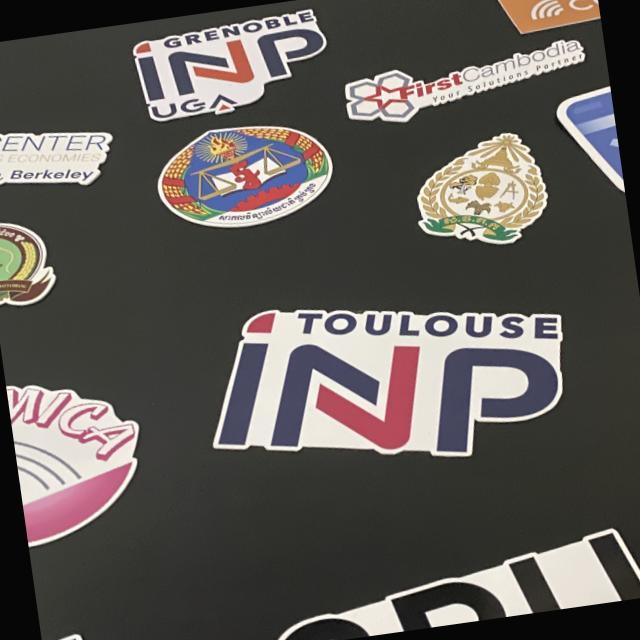Yolov11_80vkh: (211, 176, 327, 223)
